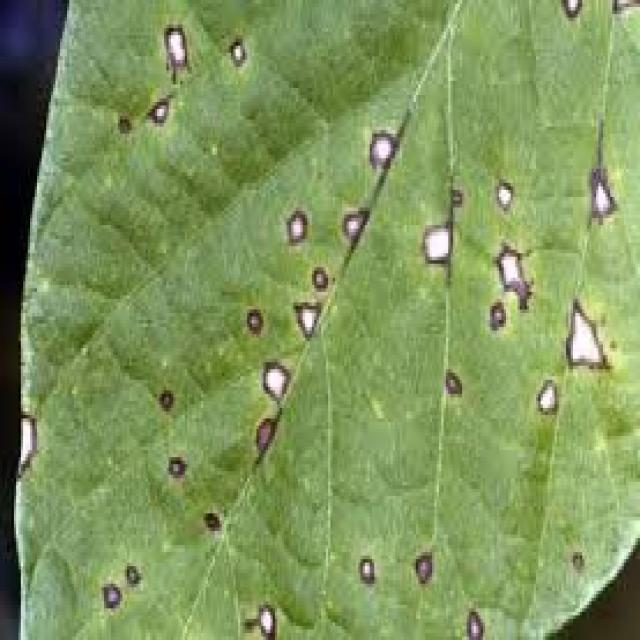bercak_daun: (252, 123, 607, 462)
